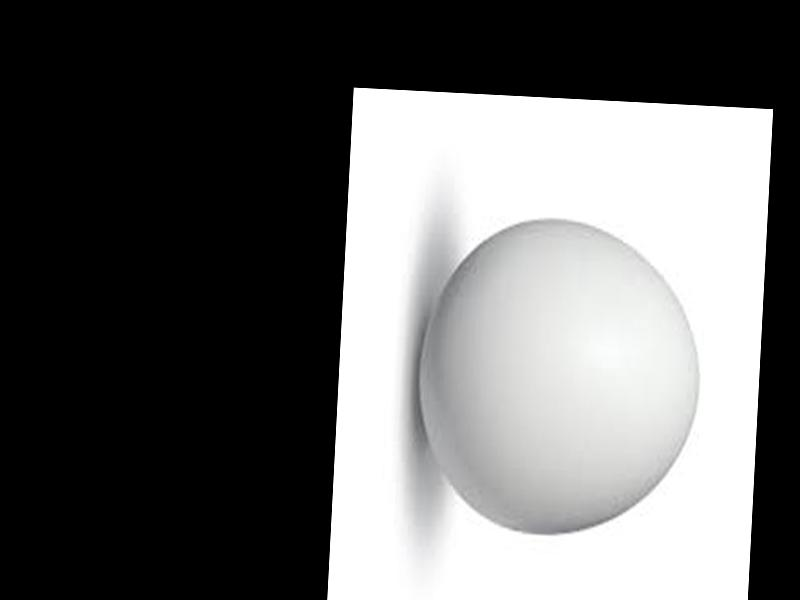Eggs: (413, 214, 709, 537)
